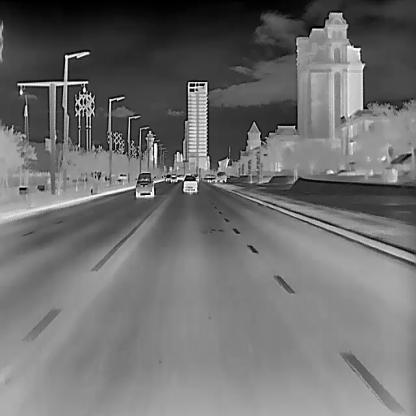car: (134, 172, 155, 198), (182, 173, 197, 193), (213, 170, 226, 182), (170, 173, 176, 182), (165, 173, 171, 182)
